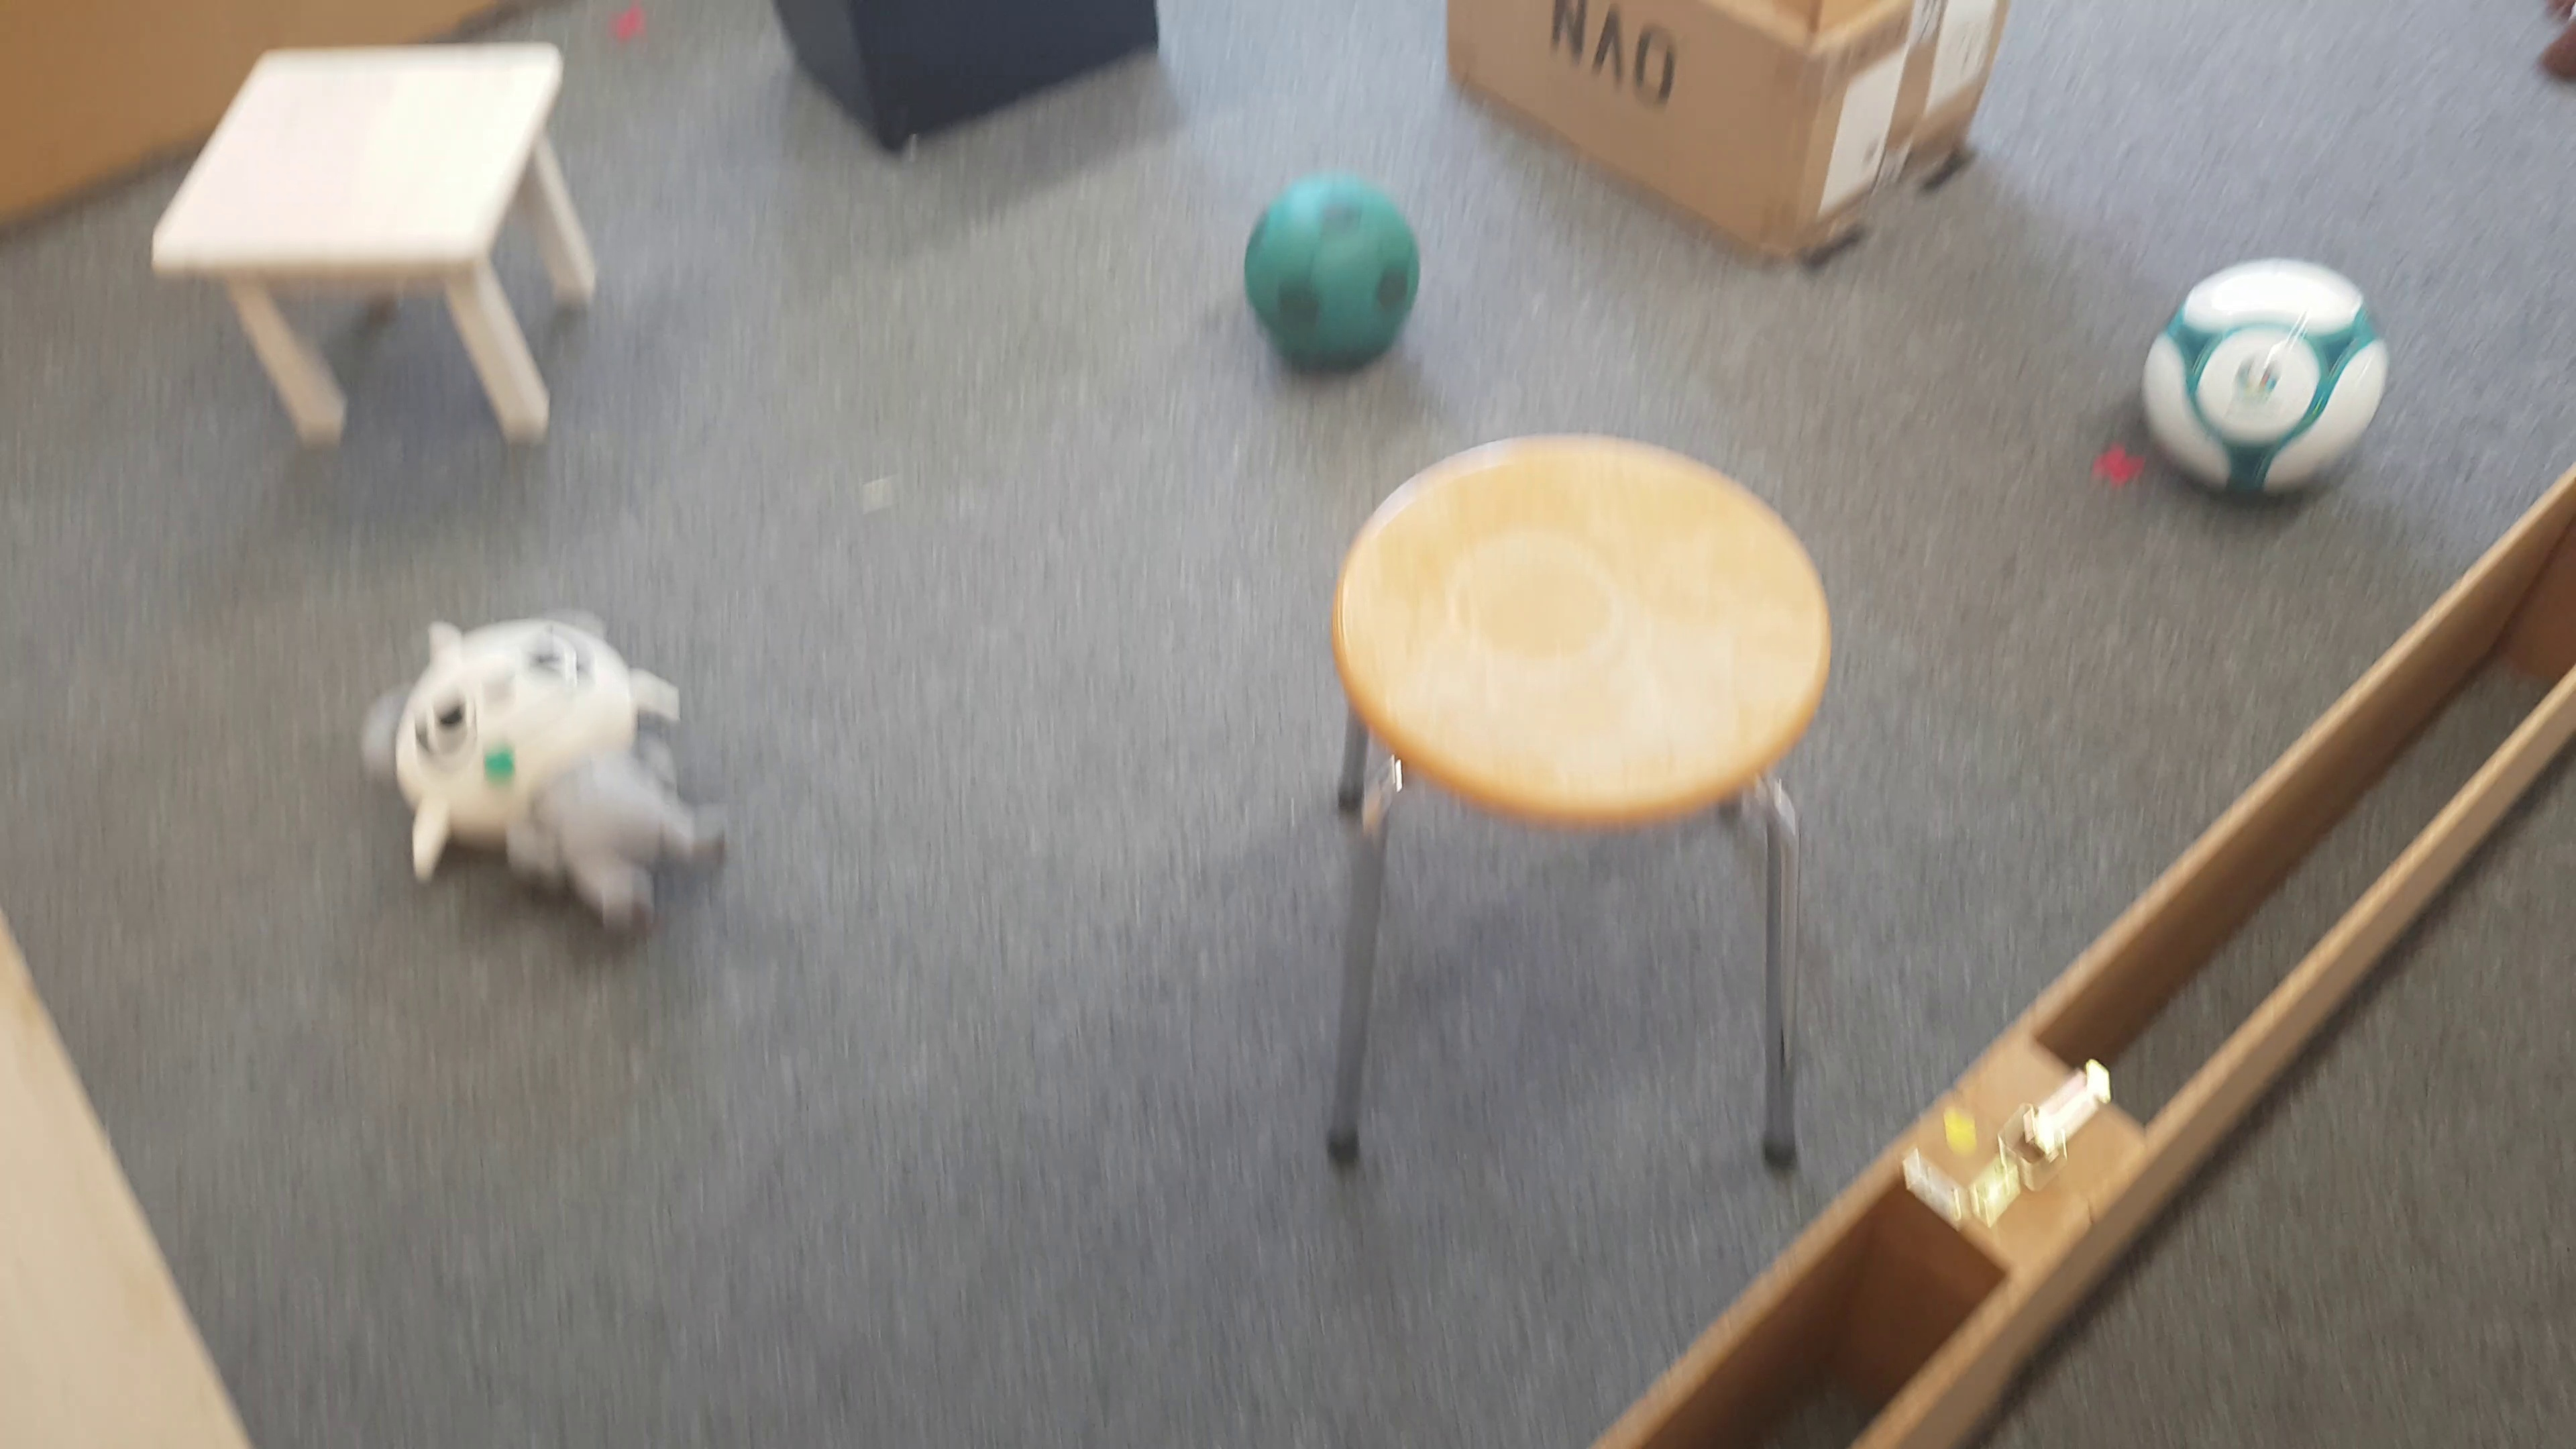grasp: (356, 609, 738, 947)
kick: (2135, 262, 2388, 510), (1249, 177, 1421, 372)
push: (778, 0, 1162, 149)
